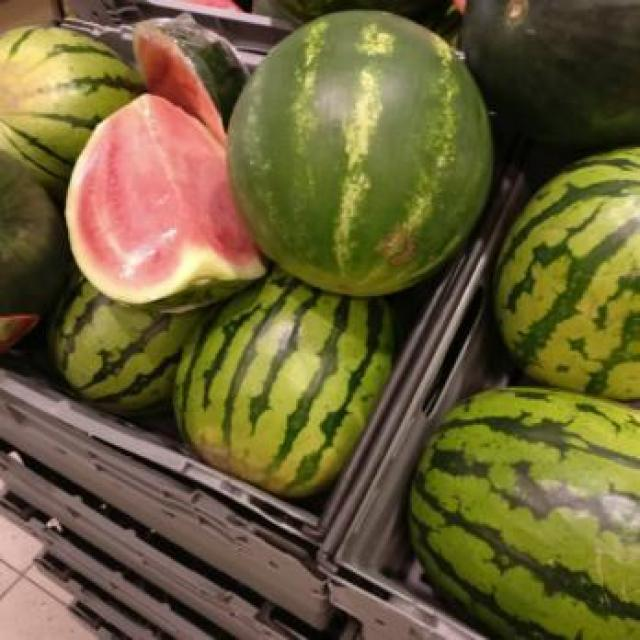Watermelon: (232, 4, 486, 286), (416, 379, 638, 638), (177, 285, 396, 489), (68, 101, 263, 305), (499, 140, 639, 405), (42, 276, 208, 412), (0, 17, 147, 164)
